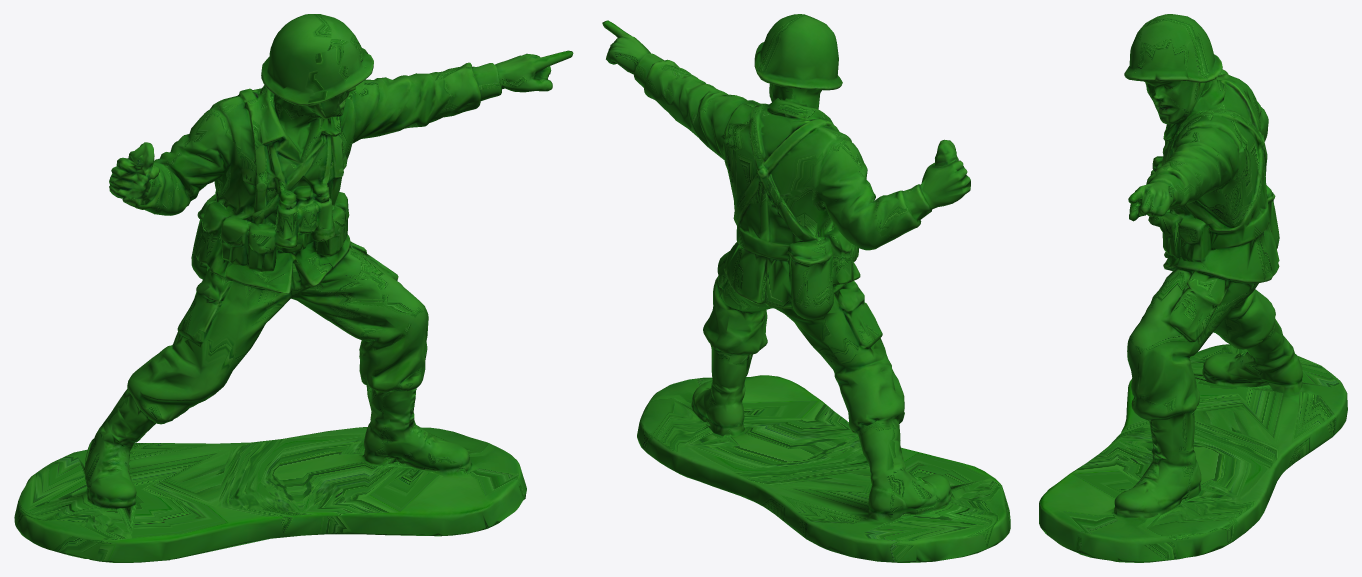
The model's file is radio-man.glb.
The picture shows the model from 3 angles, left to right: view 1: azimuth 30°, elevation 25°; view 2: azimuth 150°, elevation 25°; view 3: azimuth 270°, elevation 25°; orthographic projection. The views are drawn at different scales.
Visible parts, largest first — view 1: tripo_node_5f92b6f4-c237-4ad7-a1c1-49fd9f48ab1f; view 2: tripo_node_5f92b6f4-c237-4ad7-a1c1-49fd9f48ab1f; view 3: tripo_node_5f92b6f4-c237-4ad7-a1c1-49fd9f48ab1f.
Boxes of the visible parts, left/top/right/bottom form: tripo_node_5f92b6f4-c237-4ad7-a1c1-49fd9f48ab1f: left=14, top=14, right=573, bottom=562; tripo_node_5f92b6f4-c237-4ad7-a1c1-49fd9f48ab1f: left=602, top=14, right=1010, bottom=562; tripo_node_5f92b6f4-c237-4ad7-a1c1-49fd9f48ab1f: left=1039, top=14, right=1347, bottom=562.
Bounding box in the file's own units: 0.9794 × 0.9271 × 0.561.
1 material, 1 textured.
